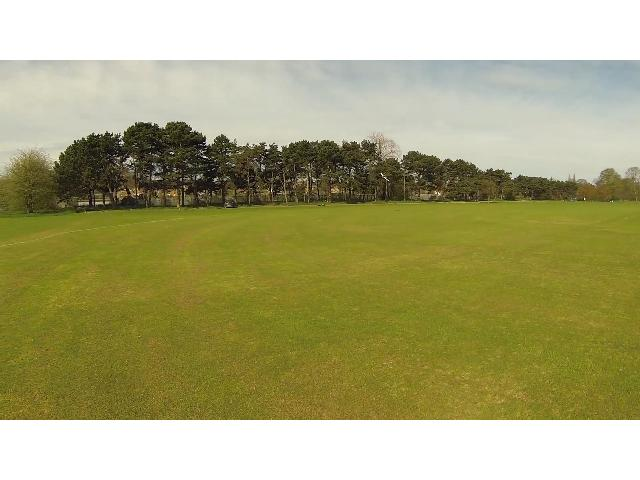Anti-Drone: (371, 165, 393, 189)
